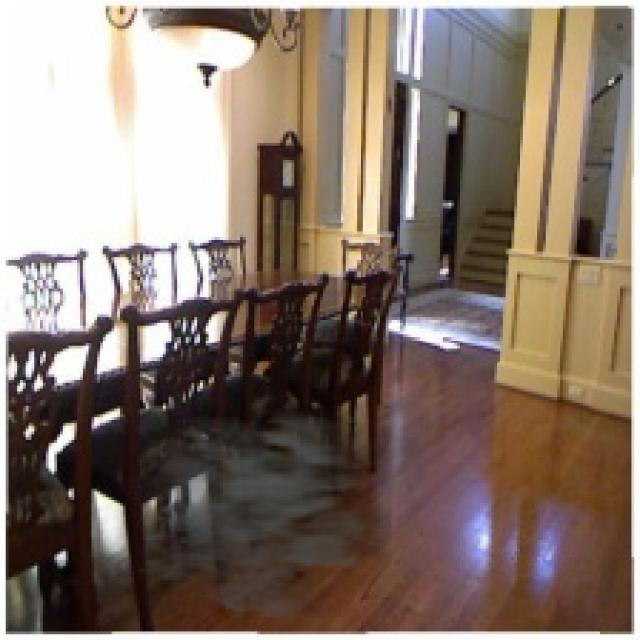smoke: (108, 394, 392, 617)
